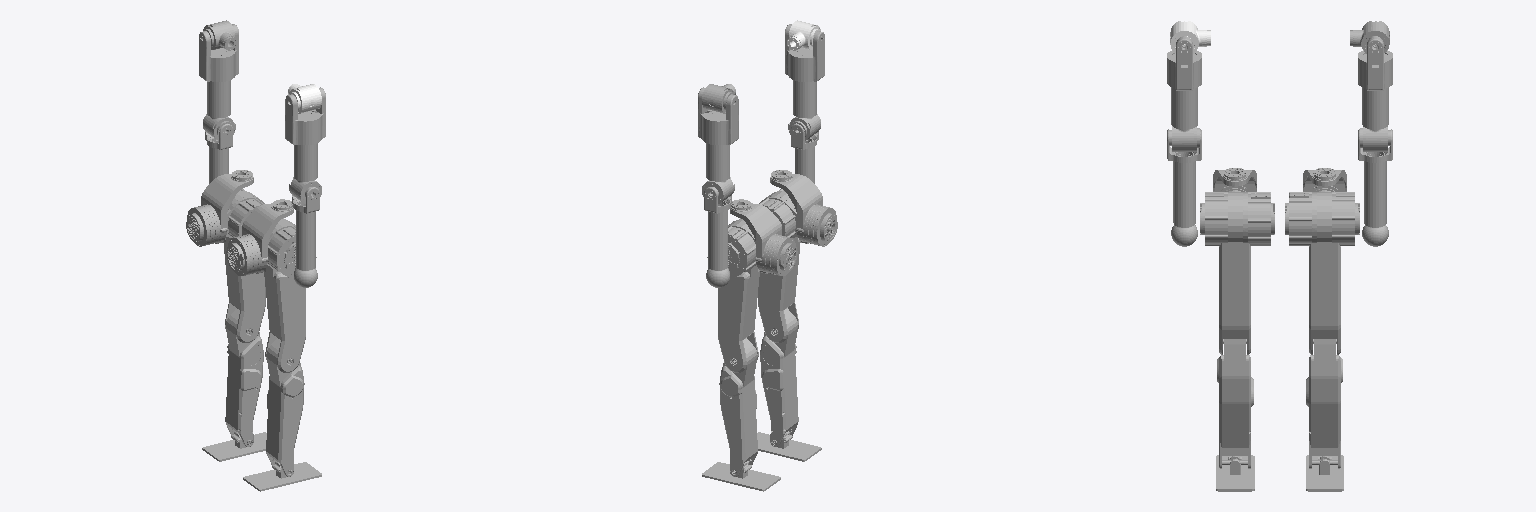
--- Facts derived from the render (not from the file) ---
Views: 3 orthographic renders of the robot side by side, from view 1: azimuth 30°, elevation 25°; view 2: azimuth 150°, elevation 25°; view 3: azimuth 270°, elevation 25°.
Model bot_elf with 32 links and 31 joints (20 revolute, 11 fixed), rooted at base_link, posed every joint at zero.
Visible links, largest first — view 1: r_hip_y_link, r_knee_y_link, l_knee_y_link, l_hip_z_link, r_hip_z_link, l_hip_y_link, r_elb_y_link, r_shld_x_link, l_shld_x_link, l_shld_z_link, r_shld_z_link, r_ankle_x_link (+5 smaller); view 2: l_hip_y_link, l_knee_y_link, r_knee_y_link, r_hip_z_link, l_hip_z_link, r_hip_y_link, l_elb_y_link, l_shld_x_link, r_shld_x_link, r_shld_z_link, l_shld_z_link, l_ankle_x_link (+5 smaller); view 3: r_hip_y_link, l_hip_y_link, l_knee_y_link, r_knee_y_link, l_elb_y_link, r_elb_y_link, r_shld_z_link, l_shld_z_link, l_hip_x_link, r_hip_x_link, l_shld_x_link, r_shld_x_link (+6 smaller).
Boxes of the visible links, x1=… form: r_hip_y_link: x1=264, y1=221, x2=316, y2=372; r_knee_y_link: x1=266, y1=338, x2=304, y2=476; l_knee_y_link: x1=225, y1=308, x2=263, y2=446; l_hip_z_link: x1=186, y1=170, x2=253, y2=246; r_hip_z_link: x1=226, y1=199, x2=293, y2=275; l_hip_y_link: x1=223, y1=189, x2=265, y2=342; r_elb_y_link: x1=292, y1=187, x2=319, y2=287; r_shld_x_link: x1=285, y1=87, x2=325, y2=144; l_shld_x_link: x1=199, y1=24, x2=238, y2=81; l_shld_z_link: x1=203, y1=80, x2=235, y2=140; r_shld_z_link: x1=289, y1=143, x2=321, y2=203; r_ankle_x_link: x1=243, y1=462, x2=321, y2=491; l_hip_y_link: x1=707, y1=221, x2=759, y2=372; l_knee_y_link: x1=719, y1=338, x2=757, y2=476; r_knee_y_link: x1=760, y1=308, x2=798, y2=446; r_hip_z_link: x1=770, y1=170, x2=837, y2=246; l_hip_z_link: x1=730, y1=199, x2=797, y2=275; r_hip_y_link: x1=758, y1=189, x2=800, y2=342; l_elb_y_link: x1=704, y1=187, x2=731, y2=287; l_shld_x_link: x1=698, y1=87, x2=738, y2=144; r_shld_x_link: x1=785, y1=24, x2=824, y2=81; r_shld_z_link: x1=788, y1=80, x2=820, y2=140; l_shld_z_link: x1=702, y1=143, x2=734, y2=203; l_ankle_x_link: x1=702, y1=462, x2=780, y2=491; r_hip_y_link: x1=1200, y1=192, x2=1250, y2=354; l_hip_y_link: x1=1309, y1=192, x2=1359, y2=354; l_knee_y_link: x1=1306, y1=339, x2=1342, y2=468; r_knee_y_link: x1=1217, y1=339, x2=1253, y2=468; l_elb_y_link: x1=1358, y1=129, x2=1392, y2=246; r_elb_y_link: x1=1167, y1=129, x2=1201, y2=246; r_shld_z_link: x1=1171, y1=87, x2=1199, y2=151; l_shld_z_link: x1=1360, y1=87, x2=1388, y2=151; l_hip_x_link: x1=1285, y1=192, x2=1316, y2=245; r_hip_x_link: x1=1243, y1=192, x2=1274, y2=245; l_shld_x_link: x1=1358, y1=36, x2=1392, y2=90; r_shld_x_link: x1=1167, y1=36, x2=1201, y2=90.
Bounding box of the posed robot: 0.2297 × 0.5058 × 1.11 m (x, y, z).
Meshes: 21 distinct files referenced, 20 mesh visuals loaded (20 OBJ); not drawn: 1 (reference not matched to a file when rendering).

The robot description file, URDF, robot "bot_elf":
<?xml version="1.0" encoding="utf-8"?>
<robot name="bot_elf">
  <link name="base_link">
    <inertial>
      <origin
        xyz="0.0047796 0.0024086 -0.0080626"
        rpy="0 0 0" />
      <mass
        value="8.1797" />
      <inertia
        ixx="0.048088"
        ixy="1.5174E-07"
        ixz="1.072E-05"
        iyy="0.025715"
        iyz="-1.8442E-06"
        izz="0.034109" />
    </inertial>
    <visual>
      <origin
        xyz="0 0 0"
        rpy="0 0 0" />
      <geometry>
        <mesh
          filename="../meshes/base_link.obj" />
      </geometry>
      <material
        name="">
        <color
          rgba="0.75294 0.75294 0.75294 1" />
      </material>
    </visual>
    <collision>
      <origin
        xyz="0 0 0"
        rpy="0 0 0" />
      <geometry>
        <mesh
          filename="../meshes/base_link.obj" />
      </geometry>
    </collision>
  </link>
  <link name="l_hip_z_link">
    <inertial>
      <origin
        xyz="-0.0926596088186881 1.83143900212845E-05 0.013335848664072"
        rpy="0 0 0" />
      <mass
        value="1.23681233828303" />
      <inertia
        ixx="0.00190369835860619"
        ixy="5.51860109314912E-07"
        ixz="-0.000295974194800576"
        iyy="0.00158455365942534"
        iyz="2.68654743796429E-06"
        izz="0.00116909292803411" />
    </inertial>
    <visual>
      <origin
        xyz="0 0 0"
        rpy="0 0 0" />
      <geometry>
        <mesh
          filename="../meshes/l_hip_z_link.obj" />
      </geometry>
      <material
        name="">
        <color
          rgba="0.752941176470588 0.752941176470588 0.752941176470588 1" />
      </material>
    </visual>
    <collision>
      <origin
        xyz="0 0 0"
        rpy="0 0 0" />
      <geometry>
        <mesh
          filename="../meshes/l_hip_z_link.obj" />
      </geometry>
    </collision>
  </link>
  <joint name="l_hip_z_joint"
    type="revolute">
    <origin
      xyz="0 0.1 -0.2929"
      rpy="0 0 0" />
    <parent
      link="base_link" />
    <child
      link="l_hip_z_link" />
    <axis
      xyz="0 0 1" />
    <limit
      lower="-0.785"
      upper="0.785"
      effort="20"
      velocity="20" />
  </joint>
  <link name="l_hip_x_link">
    <inertial>
      <origin
        xyz="-0.00338370329540797 -0.0467745110690707 5.150285588576E-06"
        rpy="0 0 0" />
      <mass
        value="1.52690683733997" />
      <inertia
        ixx="0.00145004913823758"
        ixy="4.10352624430737E-05"
        ixz="4.97801733338824E-08"
        iyy="0.00233457718239287"
        iyz="-1.50048456747228E-08"
        izz="0.00157352349598003" />
    </inertial>
    <visual>
      <origin
        xyz="0 0 0"
        rpy="0 0 0" />
      <geometry>
        <mesh
          filename="../meshes/l_hip_x_link.obj" />
      </geometry>
      <material
        name="">
        <color
          rgba="0.752941176470588 0.752941176470588 0.752941176470588 1" />
      </material>
    </visual>
    <collision>
      <origin
        xyz="0 0 0"
        rpy="0 0 0" />
      <geometry>
        <mesh
          filename="../meshes/l_hip_x_link.obj" />
      </geometry>
    </collision>
  </link>
  <joint name="l_hip_x_joint"
    type="revolute">
    <origin
      xyz="0 0 0"
      rpy="0 0 0" />
    <parent
      link="l_hip_z_link" />
    <child
      link="l_hip_x_link" />
    <axis
      xyz="1 0 0" />
    <limit
      lower="-0.523"
      upper="0.785"
      effort="40"
      velocity="20" />
  </joint>
  <link name="l_hip_y_link">
    <inertial>
      <origin
        xyz="0.00255762409650847 0.0236405387147591 -0.048808744713007"
        rpy="0 0 0" />
      <mass
        value="2.50086507860377" />
      <inertia
        ixx="0.0110437074735068"
        ixy="1.73008147567407E-06"
        ixz="0.000227328231594566"
        iyy="0.0125914973055777"
        iyz="-2.64879858826109E-05"
        izz="0.0023184281360165" />
    </inertial>
    <visual>
      <origin
        xyz="0 0 0"
        rpy="0 0 0" />
      <geometry>
        <mesh
          filename="../meshes/l_hip_y_link.obj" />
      </geometry>
      <material
        name="">
        <color
          rgba="0.752941176470588 0.752941176470588 0.752941176470588 1" />
      </material>
    </visual>
    <collision>
      <origin
        xyz="0 0 0"
        rpy="0 0 0" />
      <geometry>
        <mesh
          filename="../meshes/l_hip_y_link.obj" />
      </geometry>
    </collision>
  </link>
  <joint name="l_hip_y_joint"
    type="revolute">
    <origin
      xyz="0 0 0"
      rpy="0 0 0" />
    <parent
      link="l_hip_x_link" />
    <child
      link="l_hip_y_link" />
    <axis
      xyz="0 1 0" />
    <limit
      lower="-2"
      upper="0.5"
      effort="150"
      velocity="20" />
  </joint>
  <link name="l_knee_y_link">
    <inertial>
      <origin
        xyz="0.00615799985005955 0.000579611337631 -0.110706777787508"
        rpy="0 0 0" />
      <mass
        value="1.42611317447382" />
      <inertia
        ixx="0.00265261046145861"
        ixy="3.62716577648164E-06"
        ixz="-0.00014997989154327"
        iyy="0.00293783143268895"
        iyz="1.89587363258298E-05"
        izz="0.000614654317255875" />
    </inertial>
    <visual>
      <origin
        xyz="0 0 0"
        rpy="0 0 0" />
      <geometry>
        <mesh
          filename="../meshes/l_knee_y_link.obj" />
      </geometry>
      <material
        name="">
        <color
          rgba="0.752941176470588 0.752941176470588 0.752941176470588 1" />
      </material>
    </visual>
    <collision>
      <origin
        xyz="0 0 0"
        rpy="0 0 0" />
      <geometry>
        <mesh
          filename="../meshes/l_knee_y_link.obj" />
      </geometry>
    </collision>
  </link>
  <joint name="l_knee_y_joint"
    type="revolute">
    <origin
      xyz="0 0 -0.3"
      rpy="0 0 0" />
    <parent
      link="l_hip_y_link" />
    <child
      link="l_knee_y_link" />
    <axis
      xyz="0 1 0" />
    <limit
      lower="0"
      upper="2.2"
      effort="150"
      velocity="20" />
  </joint>
  <link name="l_ankle_y_link">
    <inertial>
      <origin
        xyz="-6.09814513086586E-12 5.83219791905343E-10 3.64153152077051E-14"
        rpy="0 0 0" />
      <mass
        value="0.0230716180694964" />
      <inertia
        ixx="2.87473990078246E-06"
        ixy="-5.92541251517592E-17"
        ixz="-6.2876746116499E-18"
        iyy="5.59461108357194E-07"
        iyz="5.67081566973957E-19"
        izz="2.6957694272781E-06" />
    </inertial>
    <visual>
      <origin
        xyz="0 0 0"
        rpy="0 0 0" />
      <geometry>
        <mesh
          filename="../meshes/l_ankle_y_link.obj" />
      </geometry>
      <material
        name="">
        <color
          rgba="0.752941176470588 0.752941176470588 0.752941176470588 1" />
      </material>
    </visual>
    <collision>
      <origin
        xyz="0 0 0"
        rpy="0 0 0" />
      <geometry>
        <mesh
          filename="../meshes/l_ankle_y_link.obj" />
      </geometry>
    </collision>
  </link>
  <joint name="l_ankle_y_joint"
    type="revolute">
    <origin
      xyz="0 0 -0.3"
      rpy="0 0 0" />
    <parent
      link="l_knee_y_link" />
    <child
      link="l_ankle_y_link" />
    <axis
      xyz="0 1 0" />
    <limit
      lower="-1.134"
      upper="0.872"
      effort="14"
      velocity="20" />
  </joint>
  <link name="l_ankle_x_link">
    <inertial>
      <origin
        xyz="-0.000451547351572134 1.90180791947991E-09 -0.0239480271401858"
        rpy="0 0 0" />
      <mass
        value="0.242076229237956" />
      <inertia
        ixx="0.000133478606835497"
        ixy="-1.35534858432808E-12"
        ixz="-4.72078298245015E-08"
        iyy="0.000565974636810553"
        iyz="-3.48826857670192E-12"
        izz="0.000693006055828246" />
    </inertial>
    <visual>
      <origin
        xyz="0 0 0"
        rpy="0 0 0" />
      <geometry>
        <mesh
          filename="../meshes/l_ankle_x_link.obj" />
      </geometry>
      <material
        name="">
        <color
          rgba="0.752941176470588 0.752941176470588 0.752941176470588 1" />
      </material>
    </visual>
    <collision>
      <origin
        xyz="0 0 0"
        rpy="0 0 0" />
      <geometry>
        <mesh
          filename="../meshes/l_ankle_x_link.obj" />
      </geometry>
    </collision>
  </link>
  <joint name="l_ankle_x_joint"
    type="revolute">
    <origin
      xyz="0 0 0"
      rpy="0 0 0" />
    <parent
      link="l_ankle_y_link" />
    <child
      link="l_ankle_x_link" />
    <axis
      xyz="1 0 0" />
    <limit
      lower="-0.349"
      upper="0.349"
      effort="14"
      velocity="20" />
  </joint>
  <link name="r_hip_z_link">
    <inertial>
      <origin
        xyz="-0.0926596100628432 -1.83149507901742E-05 0.0133358473859379"
        rpy="0 0 0" />
      <mass
        value="1.23681232467206" />
      <inertia
        ixx="0.00190369819431391"
        ixy="-5.51893727727547E-07"
        ixz="-0.000295974083738072"
        iyy="0.00158455355805139"
        iyz="-2.68652577448903E-06"
        izz="0.00116909298056176" />
    </inertial>
    <visual>
      <origin
        xyz="0 0 0"
        rpy="0 0 0" />
      <geometry>
        <mesh
          filename="../meshes/r_hip_z_link.obj" />
      </geometry>
      <material
        name="">
        <color
          rgba="0.752941176470588 0.752941176470588 0.752941176470588 1" />
      </material>
    </visual>
    <collision>
      <origin
        xyz="0 0 0"
        rpy="0 0 0" />
      <geometry>
        <mesh
          filename="../meshes/r_hip_z_link.obj" />
      </geometry>
    </collision>
  </link>
  <joint name="r_hip_z_joint"
    type="revolute">
    <origin
      xyz="0 -0.1 -0.2929"
      rpy="0 0 0" />
    <parent
      link="base_link" />
    <child
      link="r_hip_z_link" />
    <axis
      xyz="0 0 1" />
    <limit
      lower="-0.785"
      upper="0.785"
      effort="20"
      velocity="20" />
  </joint>
  <link name="r_hip_x_link">
    <inertial>
      <origin
        xyz="-0.00338370329319122 0.0467745110719649 -5.15028594272327E-06"
        rpy="0 0 0" />
      <mass
        value="1.52690683726889" />
      <inertia
        ixx="0.00145004913816721"
        ixy="-4.1035262366074E-05"
        ixz="-4.97801918977252E-08"
        iyy="0.00233457718230779"
        iyz="-1.50048535538651E-08"
        izz="0.00157352349584134" />
    </inertial>
    <visual>
      <origin
        xyz="0 0 0"
        rpy="0 0 0" />
      <geometry>
        <mesh
          filename="../meshes/r_hip_x_link.obj" />
      </geometry>
      <material
        name="">
        <color
          rgba="0.752941176470588 0.752941176470588 0.752941176470588 1" />
      </material>
    </visual>
    <collision>
      <origin
        xyz="0 0 0"
        rpy="0 0 0" />
      <geometry>
        <mesh
          filename="../meshes/r_hip_x_link.obj" />
      </geometry>
    </collision>
  </link>
  <joint name="r_hip_x_joint"
    type="revolute">
    <origin
      xyz="0 0 0"
      rpy="0 0 0" />
    <parent
      link="r_hip_z_link" />
    <child
      link="r_hip_x_link" />
    <axis
      xyz="1 0 0" />
    <limit
      lower="-0.785"
      upper="0.523"
      effort="40"
      velocity="20" />
  </joint>
  <link name="r_hip_y_link">
    <inertial>
      <origin
        xyz="0.00255763066098993 -0.0236405391952909 -0.0488087769927071"
        rpy="0 0 0" />
      <mass
        value="2.50086518492187" />
      <inertia
        ixx="0.0110437209512944"
        ixy="-1.72998158531581E-06"
        ixz="0.000227332007725612"
        iyy="0.012591510850742"
        iyz="2.64884628868717E-05"
        izz="0.00231842880087343" />
    </inertial>
    <visual>
      <origin
        xyz="0 0 0"
        rpy="0 0 0" />
      <geometry>
        <mesh
          filename="../meshes/r_hip_y_link.obj" />
      </geometry>
      <material
        name="">
        <color
          rgba="0.752941176470588 0.752941176470588 0.752941176470588 1" />
      </material>
    </visual>
    <collision>
      <origin
        xyz="0 0 0"
        rpy="0 0 0" />
      <geometry>
        <mesh
          filename="../meshes/r_hip_y_link.obj" />
      </geometry>
    </collision>
  </link>
  <joint name="r_hip_y_joint"
    type="revolute">
    <origin
      xyz="0 0 0"
      rpy="0 0 0" />
    <parent
      link="r_hip_x_link" />
    <child
      link="r_hip_y_link" />
    <axis
      xyz="0 1 0" />
    <limit
      lower="-2"
      upper="0.5"
      effort="150"
      velocity="20" />
  </joint>
  <link name="r_knee_y_link">
    <inertial>
      <origin
        xyz="0.00617132335541426 -0.000560807743664765 -0.11065165092477"
        rpy="0 0 0" />
      <mass
        value="1.42506790131187" />
      <inertia
        ixx="0.00264676043875699"
        ixy="-3.64420143143032E-06"
        ixz="-0.000149674709580511"
        iyy="0.00293197556843643"
        iyz="-1.92776513579778E-05"
        izz="0.000614607093781911" />
    </inertial>
    <visual>
      <origin
        xyz="0 0 0"
        rpy="0 0 0" />
      <geometry>
        <mesh
          filename="../meshes/r_knee_y_link.obj" />
      </geometry>
      <material
        name="">
        <color
          rgba="0.752941176470588 0.752941176470588 0.752941176470588 1" />
      </material>
    </visual>
    <collision>
      <origin
        xyz="0 0 0"
        rpy="0 0 0" />
      <geometry>
        <mesh
          filename="../meshes/r_knee_y_link.obj" />
      </geometry>
    </collision>
  </link>
  <joint name="r_knee_y_joint"
    type="revolute">
    <origin
      xyz="0 0 -0.3"
      rpy="0 0 0" />
    <parent
      link="r_hip_y_link" />
    <child
      link="r_knee_y_link" />
    <axis
      xyz="0 1 0" />
    <limit
      lower="0"
      upper="2.2"
      effort="150"
      velocity="20" />
  </joint>
  <link name="r_ankle_y_link">
    <inertial>
      <origin
        xyz="-1.21872957033124E-11 -5.83219417205072E-10 5.00266494896096E-13"
        rpy="0 0 0" />
      <mass
        value="0.0230716180694967" />
      <inertia
        ixx="2.8747399010197E-06"
        ixy="-6.04370024399216E-17"
        ixz="-8.30234156722694E-18"
        iyy="5.59461108474785E-07"
        iyz="-1.29308673475988E-18"
        izz="2.69576942739776E-06" />
    </inertial>
    <visual>
      <origin
        xyz="0 0 0"
        rpy="0 0 0" />
      <geometry>
        <mesh
          filename="../meshes/r_ankle_y_link.obj" />
      </geometry>
      <material
        name="">
        <color
          rgba="0.752941176470588 0.752941176470588 0.752941176470588 1" />
      </material>
    </visual>
    <collision>
      <origin
        xyz="0 0 0"
        rpy="0 0 0" />
      <geometry>
        <mesh
          filename="../meshes/r_ankle_y_link.obj" />
      </geometry>
    </collision>
  </link>
  <joint name="r_ankle_y_joint"
    type="revolute">
    <origin
      xyz="0 0 -0.3"
      rpy="0 0 0" />
    <parent
      link="r_knee_y_link" />
    <child
      link="r_ankle_y_link" />
    <axis
      xyz="0 1 0" />
    <limit
      lower="-1.134"
      upper="0.872"
      effort="14"
      velocity="20" />
  </joint>
  <link name="r_ankle_x_link">
    <inertial>
      <origin
        xyz="-0.000451549280729961 -1.79609392636504E-09 -0.0239480246768528"
        rpy="0 0 0" />
      <mass
        value="0.24207626222516" />
      <inertia
        ixx="0.000133478605085963"
        ixy="1.32257502304071E-12"
        ixz="-4.72071011237789E-08"
        iyy="0.000565974633400782"
        iyz="3.25954307181434E-12"
        izz="0.000693006056524855" />
    </inertial>
    <visual>
      <origin
        xyz="0 0 0"
        rpy="0 0 0" />
      <geometry>
        <mesh
          filename="../meshes/r_ankle_x_link.obj" />
      </geometry>
      <material
        name="">
        <color
          rgba="0.752941176470588 0.752941176470588 0.752941176470588 1" />
      </material>
    </visual>
    <collision>
      <origin
        xyz="0 0 0"
        rpy="0 0 0" />
      <geometry>
        <mesh
          filename="../meshes/r_ankle_x_link.obj" />
      </geometry>
    </collision>
  </link>
  <joint name="r_ankle_x_joint"
    type="revolute">
    <origin
      xyz="0 0 0"
      rpy="0 0 0" />
    <parent
      link="r_ankle_y_link" />
    <child
      link="r_ankle_x_link" />
    <axis
      xyz="1 0 0" />
    <limit
      lower="-0.349"
      upper="0.349"
      effort="14"
      velocity="20" />
  </joint>
  <link name="l_shld_y_link">
    <inertial>
      <origin
        xyz="-0.000602020278894832 -0.00203253807550383 5.25078036642812E-05"
        rpy="0 0 0" />
      <mass
        value="0.397430898254414" />
      <inertia
        ixx="0.000197533082877176"
        ixy="-2.13914774743445E-06"
        ixz="4.75269653041195E-07"
        iyy="0.000172304821546368"
        iyz="1.06293202473427E-06"
        izz="0.000193880730475137" />
    </inertial>
    <visual>
      <origin
        xyz="0 0 0"
        rpy="0 0 0" />
      <geometry>
        <mesh
          filename="../meshes/l_shld_y_link.obj" />
      </geometry>
      <material
        name="">
        <color
          rgba="0.752941176470588 0.752941176470588 0.752941176470588 1" />
      </material>
    </visual>
    <collision>
      <origin
        xyz="0 0 0"
        rpy="0 0 0" />
      <geometry>
        <mesh
          filename="../meshes/l_shld_y_link.obj" />
      </geometry>
    </collision>
  </link>
  <joint name="l_shld_y_joint"
    type="revolute">
    <origin
      xyz="0 0.213 0.1521"
      rpy="0 0 0" />
    <parent
      link="base_link" />
    <child
      link="l_shld_y_link" />
    <axis
      xyz="0 1 0" />
    <limit
      lower="-2"
      upper="2"
      effort="27"
      velocity="20" />
  </joint>
  <link name="l_shld_x_link">
    <inertial>
      <origin
        xyz="3.49942010425215E-05 5.81165736925626E-05 -0.068328160023371"
        rpy="0 0 0" />
      <mass
        value="0.621968051279973" />
      <inertia
        ixx="0.000522407314474642"
        ixy="1.0633092850603E-06"
        ixz="4.82966301174553E-06"
        iyy="0.000684523465472649"
        iyz="-8.21814917464773E-07"
        izz="0.000533096664005443" />
    </inertial>
    <visual>
      <origin
        xyz="0 0 0"
        rpy="0 0 0" />
      <geometry>
        <mesh
          filename="../meshes/l_shld_x_link.obj" />
      </geometry>
      <material
        name="">
        <color
          rgba="0.752941176470588 0.752941176470588 0.752941176470588 1" />
      </material>
    </visual>
    <collision>
      <origin
        xyz="0 0 0"
        rpy="0 0 0" />
      <geometry>
        <mesh
          filename="../meshes/l_shld_x_link.obj" />
      </geometry>
    </collision>
  </link>
  <joint name="l_shld_x_joint"
    type="revolute">
    <origin
      xyz="0 0 0"
      rpy="0 0 0" />
    <parent
      link="l_shld_y_link" />
    <child
      link="l_shld_x_link" />
    <axis
      xyz="1 0 0" />
    <limit
      lower="-0.2"
      upper="3.14"
      effort="27"
      velocity="20" />
  </joint>
  <link name="l_shld_z_link">
    <inertial>
      <origin
        xyz="8.04921908110876E-05 -0.000424509130888678 -0.230838826500421"
        rpy="0 0 0" />
      <mass
        value="0.449112448185888" />
      <inertia
        ixx="0.000250701927485454"
        ixy="8.21779092863005E-07"
        ixz="-1.0631472773896E-06"
        iyy="0.000253940290337809"
        iyz="4.73387697997262E-07"
        izz="0.000224460005915657" />
    </inertial>
    <visual>
      <origin
        xyz="0 0 0"
        rpy="0 0 0" />
      <geometry>
        <mesh
          filename="../meshes/l_shld_z_link.obj" />
      </geometry>
      <material
        name="">
        <color
          rgba="0.752941176470588 0.752941176470588 0.752941176470588 1" />
      </material>
    </visual>
    <collision>
      <origin
        xyz="0 0 0"
        rpy="0 0 0" />
      <geometry>
        <mesh
          filename="../meshes/l_shld_z_link.obj" />
      </geometry>
    </collision>
  </link>
  <joint name="l_shld_z_joint"
    type="revolute">
    <origin
      xyz="0 0 0"
      rpy="0 0 0" />
    <parent
      link="l_shld_x_link" />
    <child
      link="l_shld_z_link" />
    <axis
      xyz="0 0 1" />
    <limit
      lower="-2"
      upper="2"
      effort="7"
      velocity="20" />
  </joint>
  <link name="l_elb_y_link">
    <inertial>
      <origin
        xyz="1.52840600574913E-09 0.00061623853967685 -0.108440061437075"
        rpy="0 0 0" />
      <mass
        value="0.164832849485564" />
      <inertia
        ixx="0.000272523867356837"
        ixy="-3.68958961037701E-12"
        ixz="-4.08453819018909E-13"
        iyy="0.000246652324618476"
        iyz="5.6498846108711E-07"
        izz="0.000111491920128197" />
    </inertial>
    <visual>
      <origin
        xyz="0 0 0"
        rpy="0 0 0" />
      <geometry>
        <mesh
          filename="../meshes/l_elb_y_link.obj" />
      </geometry>
      <material
        name="">
        <color
          rgba="0.752941176470588 0.752941176470588 0.752941176470588 1" />
      </material>
    </visual>
    <collision>
      <origin
        xyz="0 0 0"
        rpy="0 0 0" />
      <geometry>
        <mesh
          filename="../meshes/l_elb_y_link.obj" />
      </geometry>
    </collision>
  </link>
  <joint name="l_elb_y_joint"
    type="revolute">
    <origin
      xyz="0 0 -0.24505"
      rpy="0 0 0" />
    <parent
      link="l_shld_z_link" />
    <child
      link="l_elb_y_link" />
    <axis
      xyz="0 1 0" />
    <limit
      lower="-2"
      upper="2"
      effort="27"
      velocity="20" />
  </joint>
  <link name="r_shld_y_link">
    <inertial>
      <origin
        xyz="-0.000602020278894832 0.00203253807550383 5.25078036642812E-05"
        rpy="0 0 0" />
      <mass
        value="0.397430898254414" />
        <inertia
        ixx="0.000197533082877176"
        ixy="2.13914774743445E-06"
        ixz="-4.75269653041195E-07"
        iyy="0.000172304821546368"
        iyz="1.06293202473427E-06"
        izz="0.000193880730475137" />
    </inertial>
    <visual>
      <origin
        xyz="0 0 0"
        rpy="0 0 0" />
      <geometry>
        <mesh
          filename="../meshes/r_shld_y_link.obj" />
      </geometry>
      <material
        name="">
        <color
          rgba="1 1 1 1" />
      </material>
    </visual>
    <collision>
      <origin
        xyz="0 0 0"
        rpy="0 0 0" />
      <geometry>
        <mesh
          filename="../meshes/r_shld_y_link.obj" />
      </geometry>
    </collision>
  </link>
  <joint name="r_shld_y_joint"
    type="revolute">
    <origin
      xyz="0 -0.213 0.1521"
      rpy="0 0 0" />
    <parent
      link="base_link" />
    <child
      link="r_shld_y_link" />
    <axis
      xyz="0 1 0" />
    <limit
      lower="-2"
      upper="2"
      effort="27"
      velocity="20" />
  </joint>
  <link name="r_shld_x_link">
    <inertial>
      <origin
        xyz="3.49942010425205E-05 -5.81165736925071E-05 -0.0683281600233711"
        rpy="0 0 0" />
      <mass
        value="0.621968051279973" />
      <inertia
        ixx="0.000522407314474642"
        ixy="-1.06330928506036E-06"
        ixz="4.82966301174548E-06"
        iyy="0.000684523465472649"
        iyz="8.21814917464805E-07"
        izz="0.000533096664005443" />
    </inertial>
    <visual>
      <origin
        xyz="0 0 0"
        rpy="0 0 0" />
      <geometry>
        <mesh
          filename="../meshes/r_shld_x_link.obj" />
      </geometry>
      <material
        name="">
        <color
          rgba="0.752941176470588 0.752941176470588 0.752941176470588 1" />
      </material>
    </visual>
    <collision>
      <origin
        xyz="0 0 0"
        rpy="0 0 0" />
      <geometry>
        <mesh
          filename="../meshes/r_shld_x_link.obj" />
      </geometry>
    </collision>
  </link>
  <joint name="r_shld_x_joint"
    type="revolute">
    <origin
      xyz="0 0 0"
      rpy="0 0 0" />
    <parent
      link="r_shld_y_link" />
    <child
      link="r_shld_x_link" />
    <axis
      xyz="1 0 0" />
    <limit
      lower="-3.14"
      upper="0.2"
      effort="27"
      velocity="20" />
  </joint>
  <link name="r_shld_z_link">
    <inertial>
      <origin
        xyz="8.0589558253347E-05 0.000424513070547111 -0.230838913045408"
        rpy="0 0 0" />
      <mass
        value="0.449113232804568" />
      <inertia
        ixx="0.000250699864950972"
        ixy="-8.21992379855939E-07"
        ixz="-1.06334410611211E-06"
        iyy="0.000253940771428312"
        iyz="-4.73304934008079E-07"
        izz="0.000224461304023008" />
    </inertial>
    <visual>
      <origin
        xyz="0 0 0"
        rpy="0 0 0" />
      <geometry>
        <mesh
          filename="../meshes/r_shld_z_link.obj" />
      </geometry>
      <material
        name="">
        <color
          rgba="0.752941176470588 0.752941176470588 0.752941176470588 1" />
      </material>
    </visual>
    <collision>
      <origin
        xyz="0 0 0"
        rpy="0 0 0" />
      <geometry>
        <mesh
          filename="../meshes/r_shld_z_link.obj" />
      </geometry>
    </collision>
  </link>
  <joint name="r_shld_z_joint"
    type="revolute">
    <origin
      xyz="0 0 0"
      rpy="0 0 0" />
    <parent
      link="r_shld_x_link" />
    <child
      link="r_shld_z_link" />
    <axis
      xyz="0 0 1" />
    <limit
      lower="-2"
      upper="2"
      effort="7"
      velocity="20" />
  </joint>
  <link name="r_elb_y_link">
    <inertial>
      <origin
        xyz="-1.52840602714641E-09 -0.000616238539676822 -0.108440061437075"
        rpy="0 0 0" />
      <mass
        value="0.164832849485564" />
      <inertia
        ixx="0.000272523867356837"
        ixy="-3.68958975120286E-12"
        ixz="4.08453745704318E-13"
        iyy="0.000246652324618476"
        iyz="-5.64988461087134E-07"
        izz="0.000111491920128197" />
    </inertial>
    <visual>
      <origin
        xyz="0 0 0"
        rpy="0 0 0" />
      <geometry>
        <mesh
          filename="../meshes/r_elb_y_link.obj" />
      </geometry>
      <material
        name="">
        <color
          rgba="0.752941176470588 0.752941176470588 0.752941176470588 1" />
      </material>
    </visual>
    <collision>
      <origin
        xyz="0 0 0"
        rpy="0 0 0" />
      <geometry>
        <mesh
          filename="../meshes/r_elb_y_link.obj" />
      </geometry>
    </collision>
  </link>
  <joint name="r_elb_y_joint"
    type="revolute">
    <origin
      xyz="0 0 -0.24505"
      rpy="0 0 0" />
    <parent
      link="r_shld_z_link" />
    <child
      link="r_elb_y_link" />
    <axis
      xyz="0 1 0" />
    <limit
      lower="-2"
      upper="2"
      effort="27"
      velocity="20" />
  </joint>

  <link name="contact1"/>
  <link name="contact2"/>
  <link name="contact3"/>
  <link name="contact4" />
  <link name="contact5"/>
  <link name="contact6"/>
  <link name="contact7"/>
  <link name="contact8"/>

  <link name="imu_link"/>

  <link name="l_hand_contact"/>
  <link name="r_hand_contact"/>

  <!-- hand -->
  <joint name="l_hand_joint" type="fixed">
    <origin rpy="0 0 0" xyz="0 0 -0.235"/>
    <parent link="l_elb_y_link"/>
    <child link="l_hand_contact"/>
  </joint>
  <joint name="r_hand_joint" type="fixed">
    <origin rpy="0 0 0" xyz="0 0 -0.235"/>
    <parent link="r_elb_y_link"/>
    <child link="r_hand_contact"/>
  </joint>


  <joint name="contact1_joint" type="fixed">
    <origin rpy="0 0 0" xyz="0.09 0.043 -0.029"/>
    <parent link="l_ankle_x_link"/>
    <child link="contact1"/>
  </joint>
  <joint name="contact2_joint" type="fixed">
    <origin rpy="0 0 0" xyz="0.09 -0.043 -0.029"/>
    <parent link="l_ankle_x_link"/>
    <child link="contact2"/>
  </joint>
  <joint name="contact3_joint" type="fixed">
    <origin rpy="0 0 0" xyz="-0.09 0.043 -0.029"/>
    <parent link="l_ankle_x_link"/>
    <child link="contact3"/>
  </joint>
  <joint name="contact4_joint" type="fixed">
    <origin rpy="0 0 0" xyz="-0.09 -0.043 -0.029"/>
    <parent link="l_ankle_x_link"/>
    <child link="contact4"/>
  </joint>
  <joint name="contact5_joint" type="fixed">
    <origin rpy="0 0 0" xyz="0.09 0.043 -0.029"/>
    <parent link="r_ankle_x_link"/>
    <child link="contact5"/>
  </joint>
  <joint name="contact6_joint" type="fixed">
    <origin rpy="0 0 0" xyz="0.09 -0.043 -0.029"/>
    <parent link="r_ankle_x_link"/>
    <child link="contact6"/>
  </joint>
  <joint name="contact7_joint" type="fixed">
    <origin rpy="0 0 0" xyz="-0.09 0.043 -0.029"/>
    <parent link="r_ankle_x_link"/>
    <child link="contact7"/>
  </joint>
  <joint name="contact8_joint" type="fixed">
    <origin rpy="0 0 0" xyz="-0.09 -0.043 -0.029"/>
    <parent link="r_ankle_x_link"/>
    <child link="contact8"/>
  </joint>
  <joint name="imu_joint" type="fixed">
    <origin rpy="0 0 0" xyz="0 0 0"/>
    <parent link="base_link"/>
    <child link="imu_link"/>
  </joint>

</robot>
